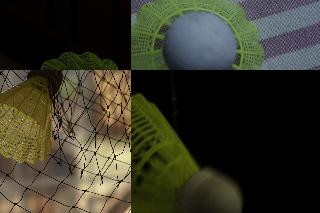shuttlecock: (131, 89, 244, 212), (131, 0, 264, 69), (0, 70, 63, 164), (21, 52, 130, 69)
